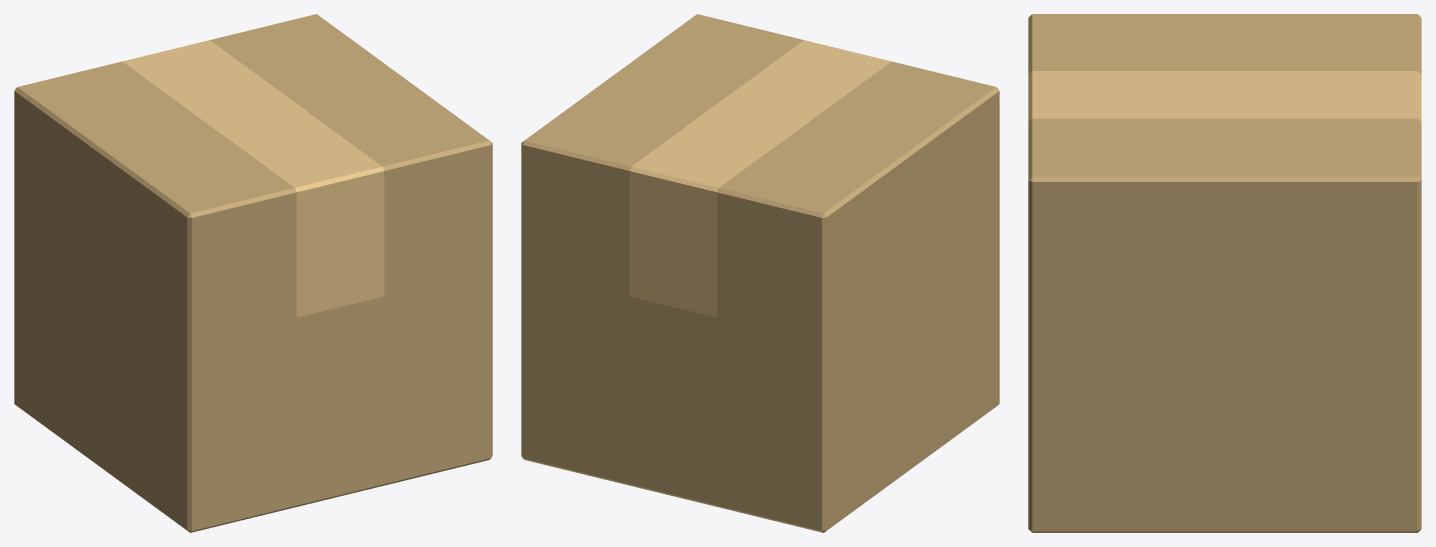
The model's file is sm_cardboardbox.fbx.
3 renders of one model, left to right at view 1: azimuth 30°, elevation 25°; view 2: azimuth 150°, elevation 25°; view 3: azimuth 270°, elevation 25°, orthographic. The views are drawn at different scales.
Visible parts, largest first — view 1: cardboard_box; view 2: cardboard_box; view 3: cardboard_box.
Boxes of the visible parts, x1,y1,x2,y2 form: cardboard_box: [14, 14, 492, 532]; cardboard_box: [521, 14, 999, 532]; cardboard_box: [1028, 14, 1421, 532].
Bounding box in the file's own units: 51.22 × 51.22 × 51.22.
